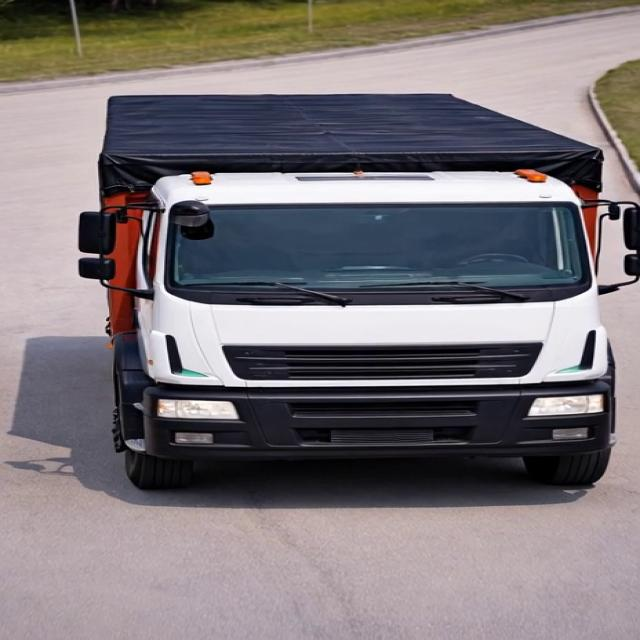Box: (47, 83, 626, 169)
Truck: (35, 50, 640, 505)
